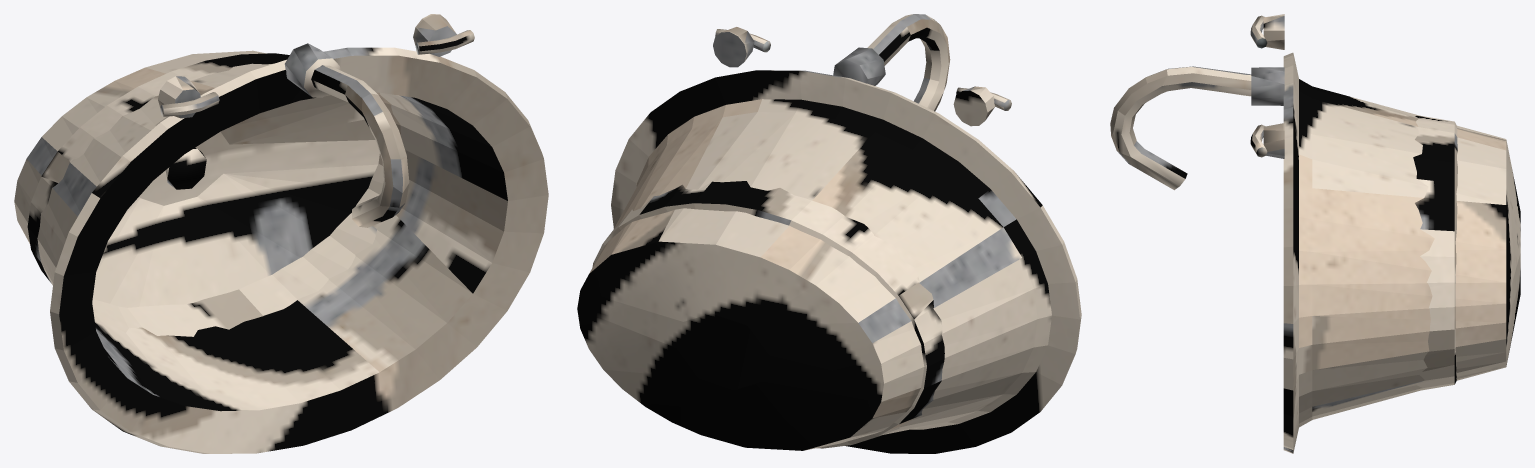
File: pz_sink_inset_beige.obj
3 renders of one model, left to right at view 1: azimuth 30°, elevation 25°; view 2: azimuth 150°, elevation 25°; view 3: azimuth 270°, elevation 25°, orthographic. The views are drawn at different scales.
Bounding box in the file's own units: 0.526 × 0.4123 × 0.4296.
